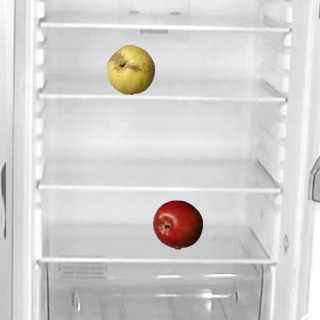Apple Braeburn: (152, 199, 202, 249)
Apple Golden 1: (105, 44, 155, 94)
